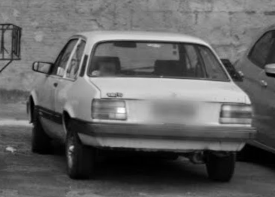car: (27, 31, 257, 182)
